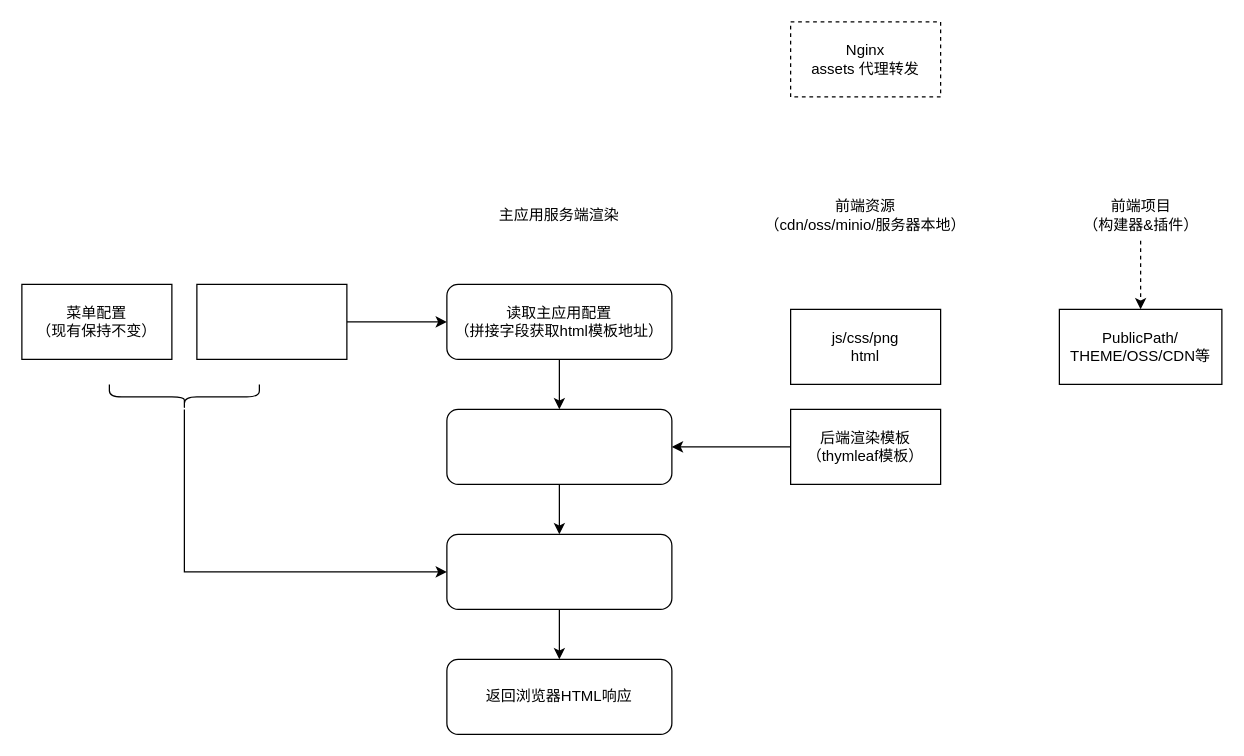
This 1244x756 diagram has some shape labels left out. The shapes that lost their labels are listed below. From the top down, each one's centre as x and y in pixels, then its label:
At (271,321): "主子应用配置 （新增）".
At (559,446): "加载HTML模板".
At (559,571): "加载配置注入模板变量".
